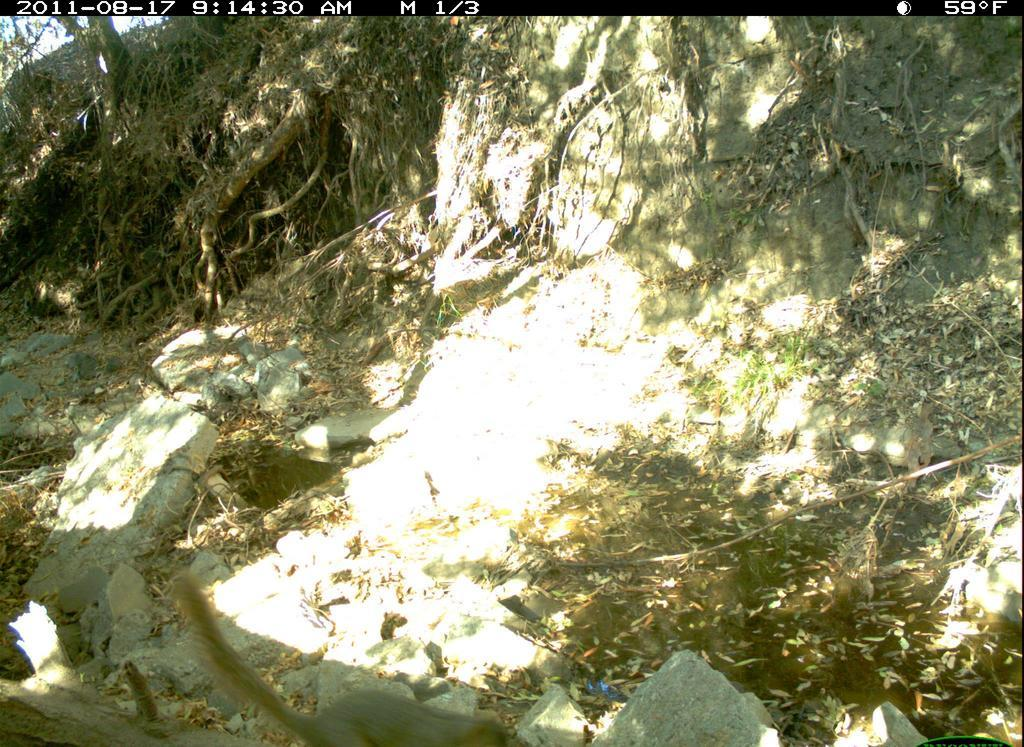squirrel: (169, 568, 538, 747)
